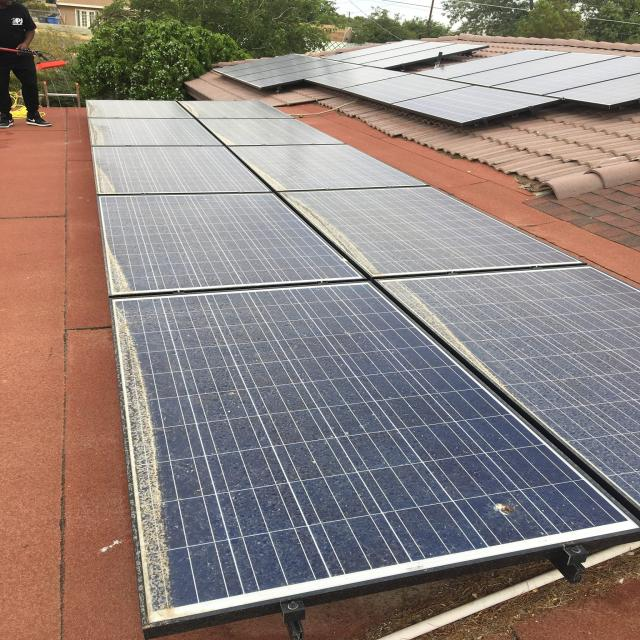dust-solar-panel: (84, 97, 640, 619)
